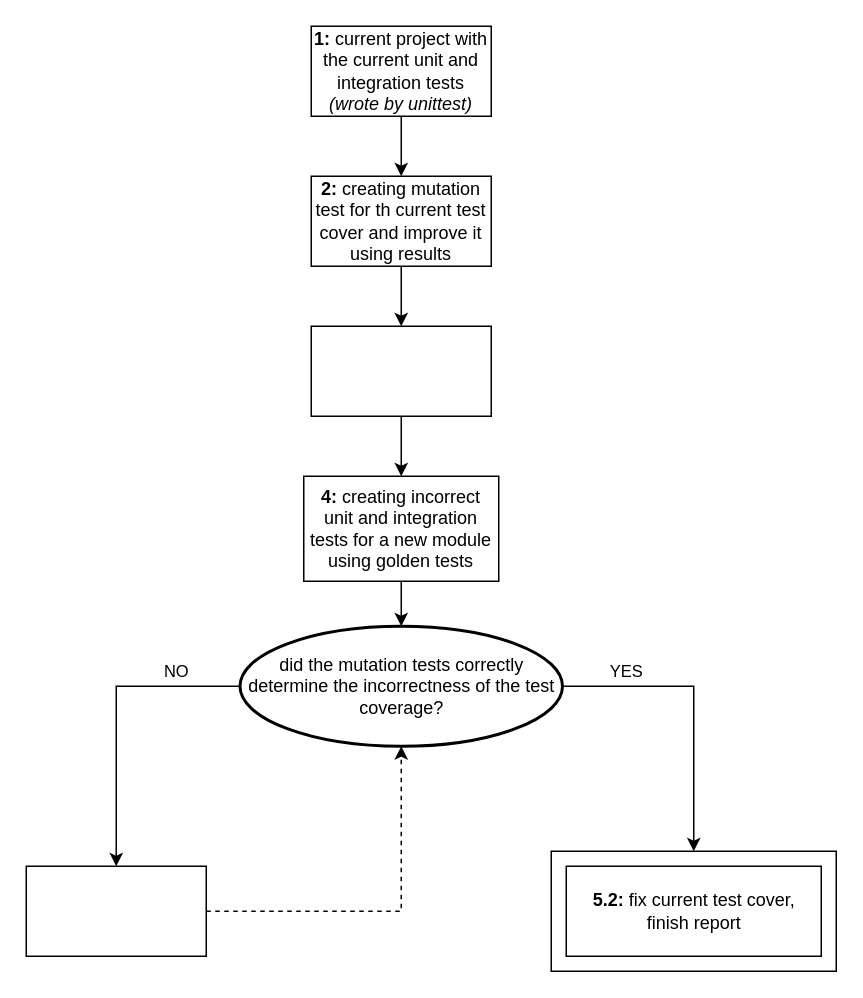
Image size: 863x998. Some labels were removed from this diagram. Here are the shapes that lost their labels. From the top down, the box of each, then its label:
(310, 325, 491, 416): 3: creating a new GUI module using PyQt
(25, 865, 206, 956): 5.1: fix the mutation test
